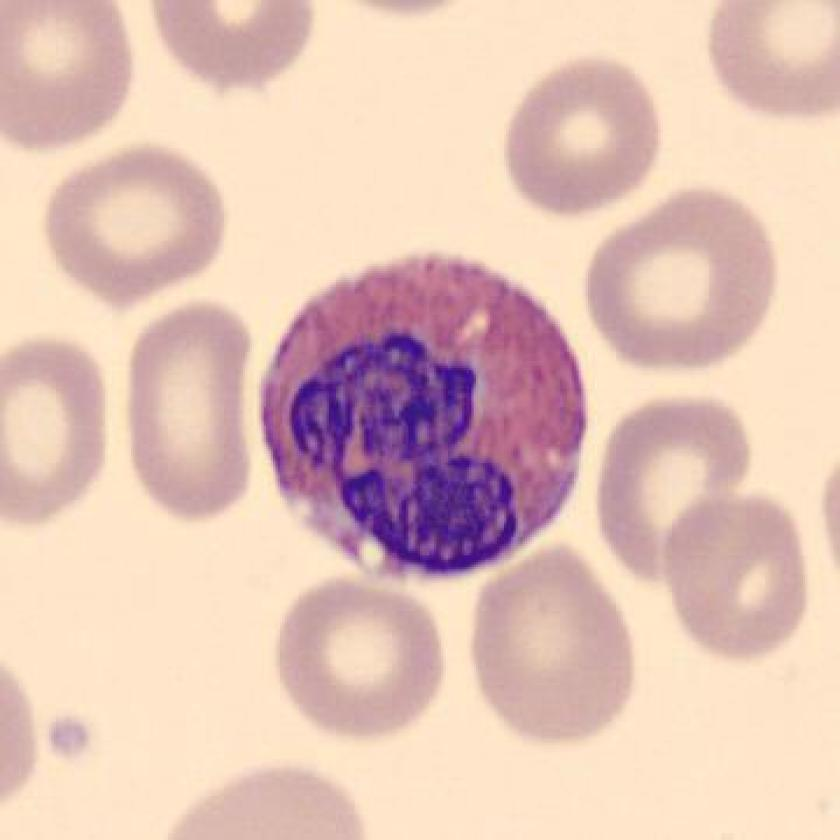eosinophil: (248, 240, 610, 594)
